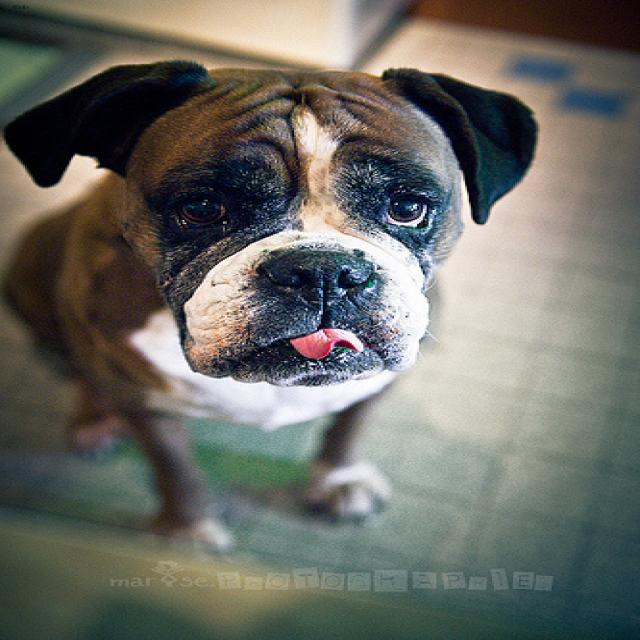dog-boxer: (2, 47, 557, 563)
